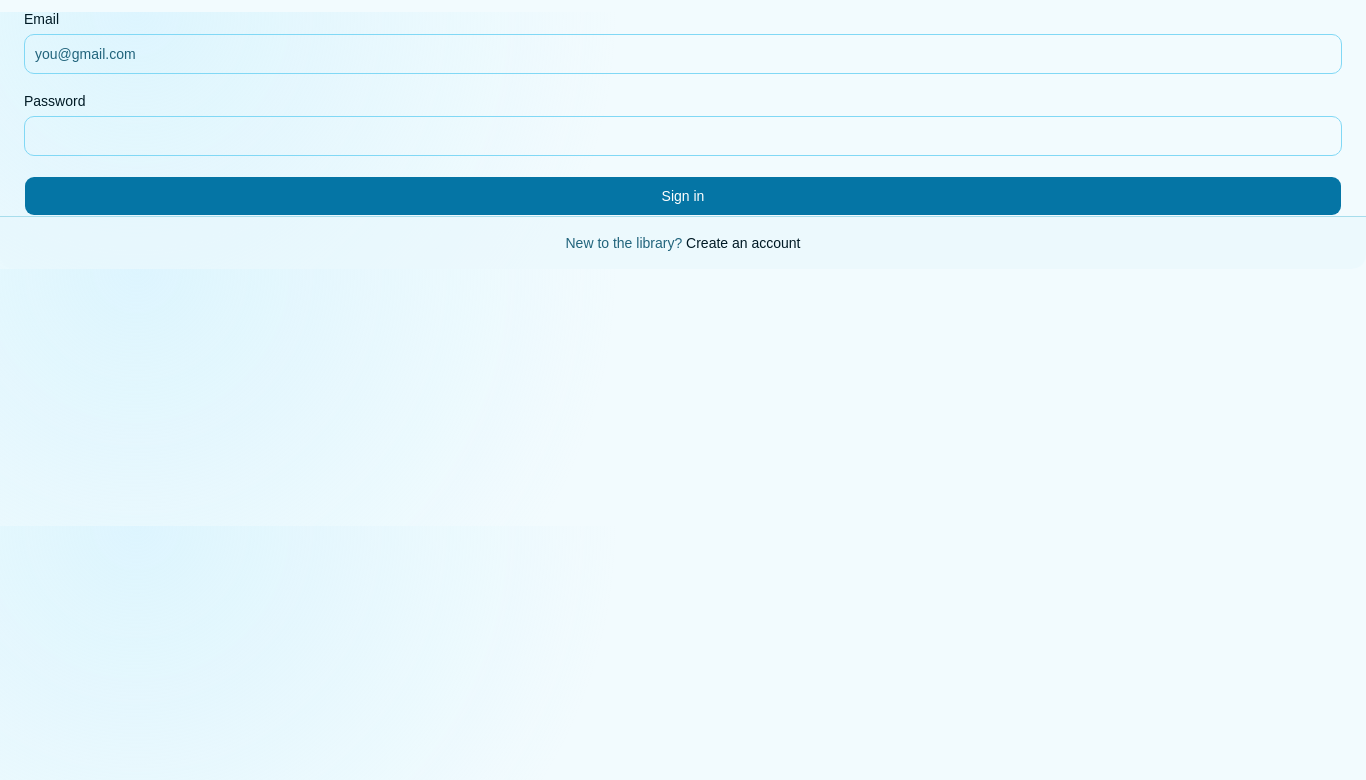
Test case: AuthForm › Login mode › validates email format
Type "invalid-email" into the field labelled "Email" at (683, 54), box [24,34,1342,74]
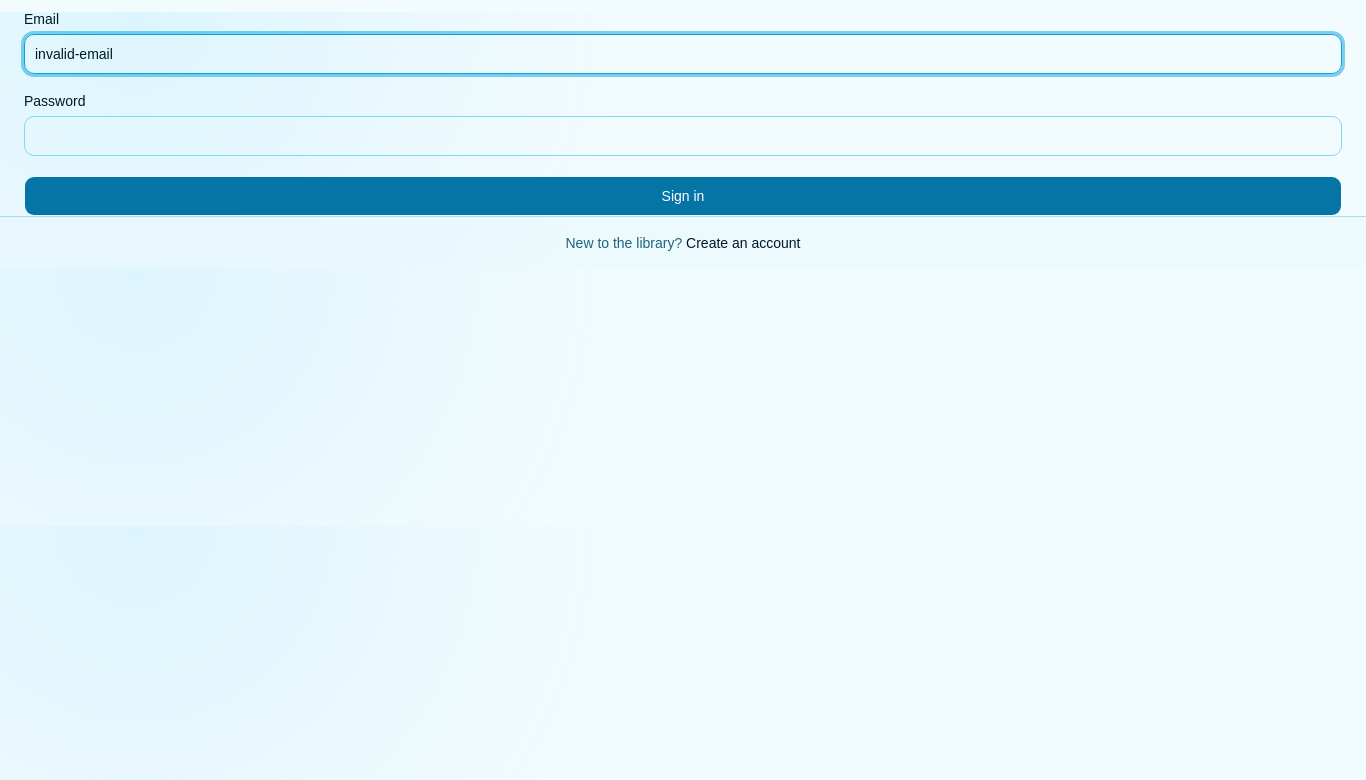
Click the button "Sign in" at (683, 196), box [24,176,1342,216]
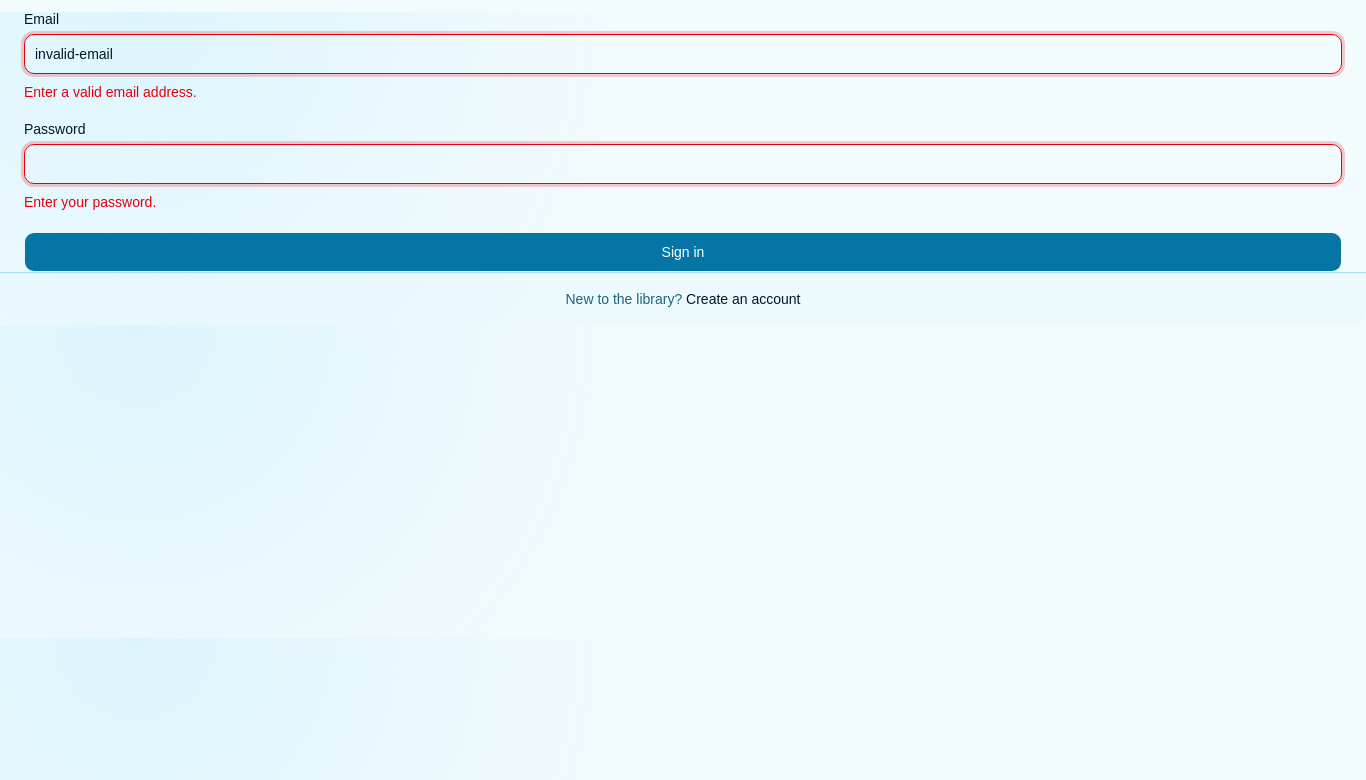
Now the text "Enter a valid email address." is shown, box [24,84,197,100]
